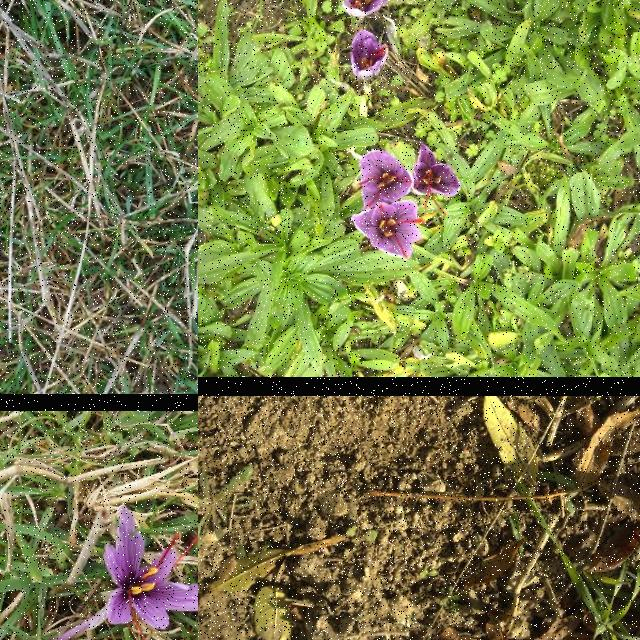flower: (103, 505, 198, 640), (352, 201, 426, 259), (412, 146, 462, 216), (356, 149, 412, 209), (349, 30, 389, 78), (337, 0, 398, 18)
